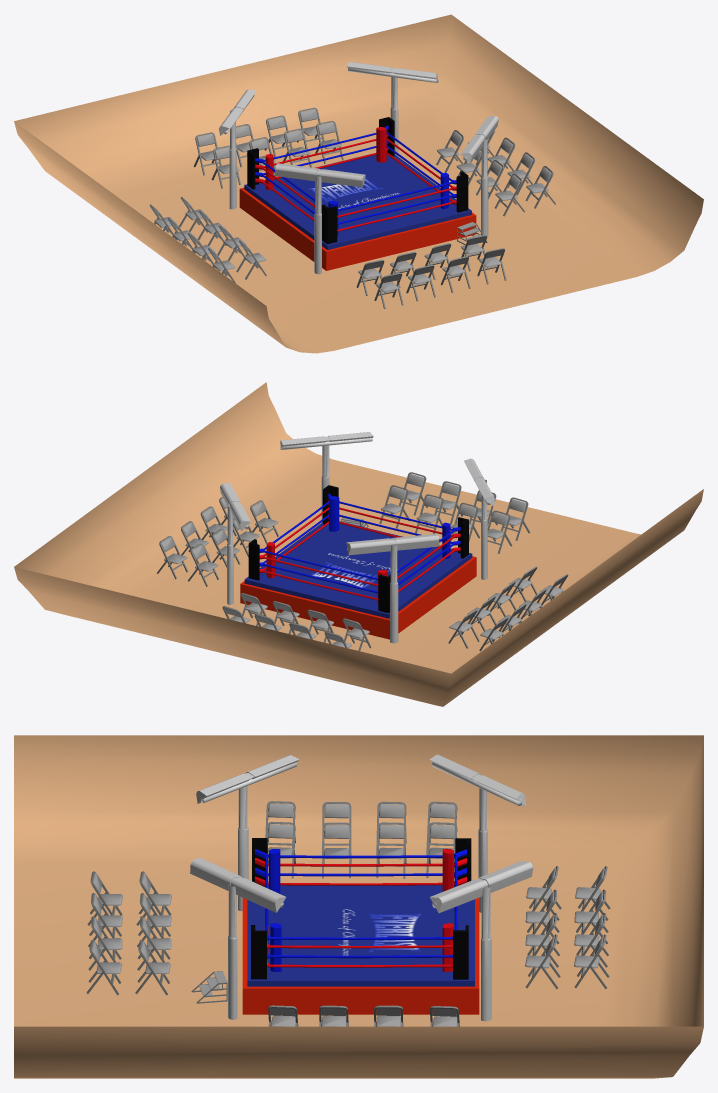
Rendered from boxing_ring.fbx.
3 renders of one model, top to bottom at view 1: azimuth 30°, elevation 25°; view 2: azimuth 150°, elevation 25°; view 3: azimuth 270°, elevation 25°, orthographic. The views are drawn at different scales.
Visible parts, largest first — view 1: Cube, Cube.001, pipe_low.001, Cube.026, Cube.016, Cube.006, pipe_low.003, pipe_low, pipe_low.002; view 2: Cube, Cube.001, pipe_low.002, Cube.026, Cube.016, Cube.006, pipe_low.003, pipe_low, pipe_low.001; view 3: Cube, Cube.001, pipe_low, pipe_low.003, Cube.026, Cube.016, Cube.006, pipe_low.001, pipe_low.002.
Part boxes in pixels (x1,y1,x2,y2): Cube: [14, 14, 703, 353]; Cube.001: [239, 154, 476, 270]; pipe_low.001: [274, 163, 365, 274]; Cube.026: [255, 125, 456, 224]; Cube.016: [255, 131, 456, 231]; Cube.006: [247, 117, 468, 244]; pipe_low.003: [461, 116, 498, 236]; pipe_low: [347, 61, 438, 156]; pipe_low.002: [219, 89, 256, 209]; Cube: [14, 382, 703, 706]; Cube.001: [240, 521, 476, 639]; pipe_low.002: [346, 533, 439, 643]; Cube.026: [259, 493, 460, 593]; Cube.016: [259, 500, 460, 600]; Cube.006: [248, 485, 468, 612]; pipe_low.003: [280, 432, 373, 522]; pipe_low: [220, 483, 250, 604]; pipe_low.001: [464, 458, 494, 579]; Cube: [14, 735, 703, 1078]; Cube.001: [242, 885, 479, 1014]; pipe_low: [429, 860, 533, 1021]; pipe_low.003: [190, 857, 286, 1019]; Cube.026: [255, 849, 466, 958]; Cube.016: [255, 858, 466, 967]; Cube.006: [251, 838, 471, 979]; pipe_low.001: [196, 755, 299, 911]; pipe_low.002: [429, 754, 525, 912].
Bounding box in the file's own units: 7502 × 1687 × 7502.
